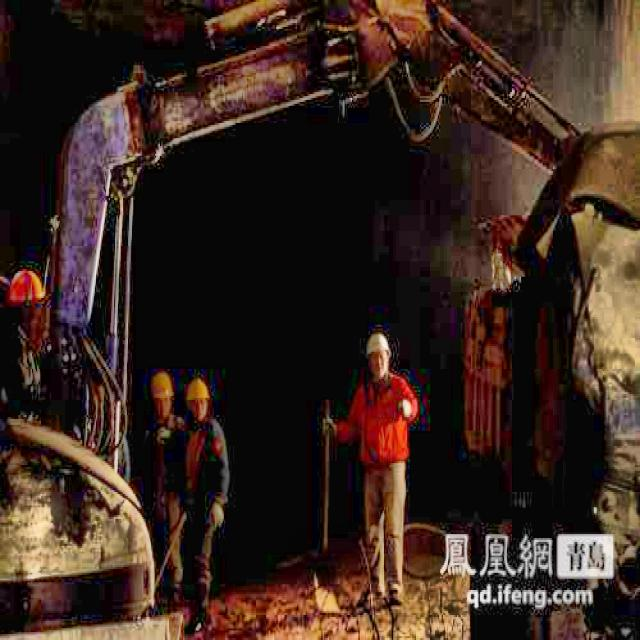helmet: (8, 266, 48, 334), (366, 327, 398, 388), (151, 369, 178, 419), (184, 379, 212, 421)
